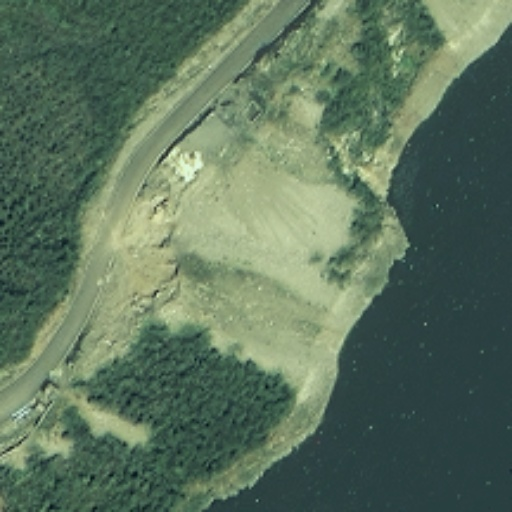landslide: (158, 147, 365, 296)
